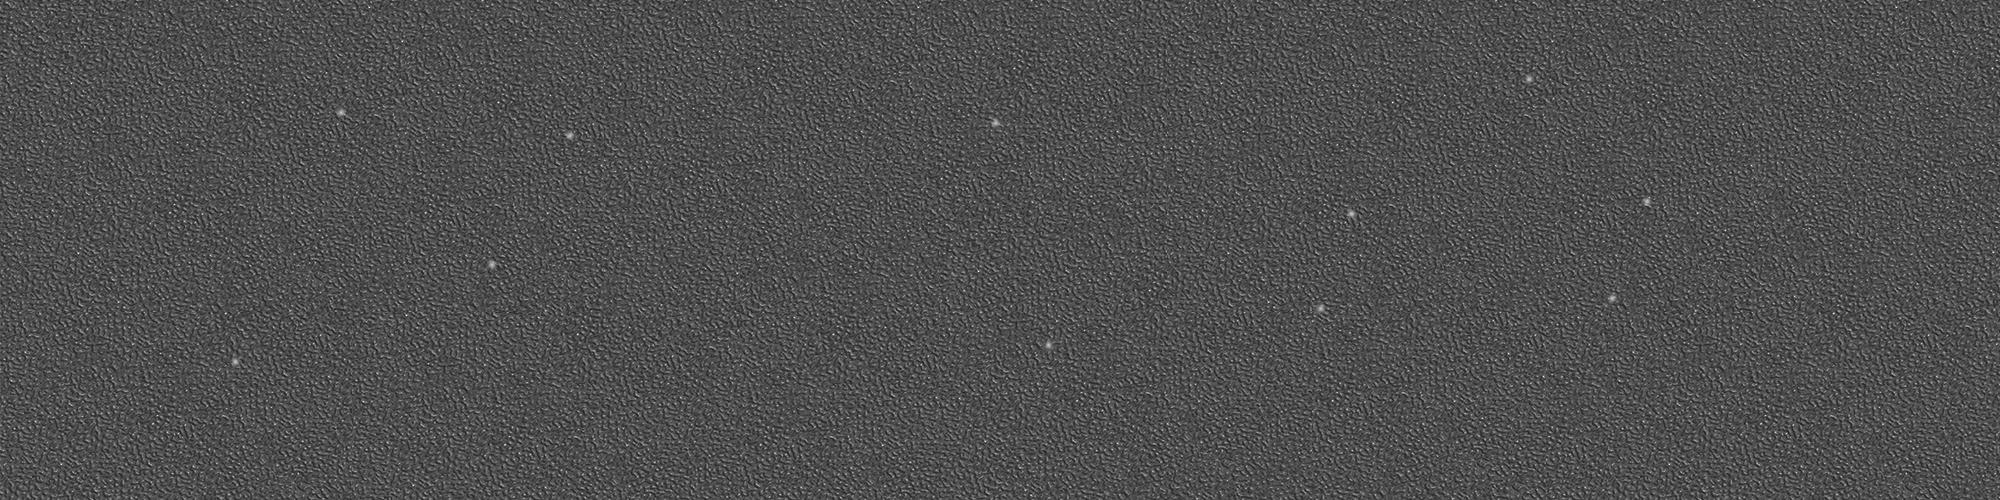Particles: (1634, 191, 1659, 213), (1602, 290, 1622, 306), (1341, 207, 1361, 222), (1520, 71, 1538, 87), (562, 126, 578, 143), (226, 355, 242, 369), (989, 115, 1003, 130), (1042, 338, 1056, 353), (1312, 301, 1328, 315), (333, 105, 346, 121), (483, 259, 497, 272)
